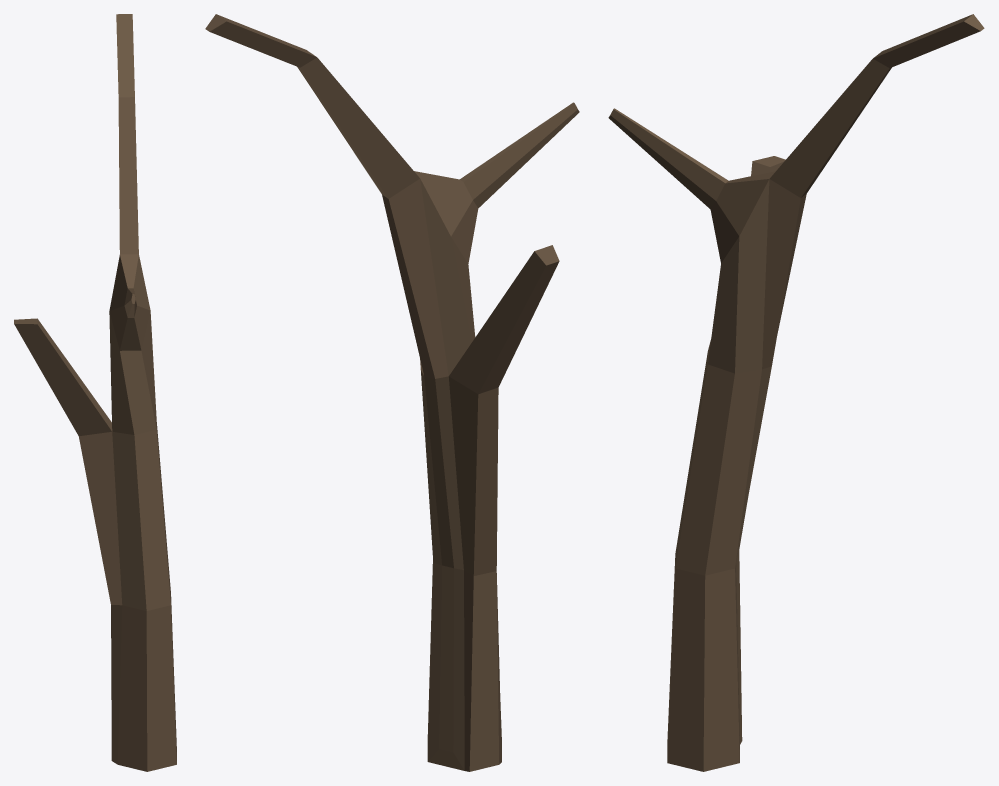
The model's file is Sappling_1.fbx.
The picture shows the model from 3 angles, left to right: view 1: azimuth 30°, elevation 25°; view 2: azimuth 150°, elevation 25°; view 3: azimuth 270°, elevation 25°; orthographic projection. The views are drawn at different scales.
Parts seen in each view (by area): view 1: Sapling; view 2: Sapling; view 3: Sapling.
Part boxes in pixels (x1=…): Sapling: x1=14, y1=14, x2=176, y2=771; Sapling: x1=205, y1=14, x2=579, y2=771; Sapling: x1=608, y1=14, x2=984, y2=771.
Bounding box in the file's own units: 13.06 × 40.62 × 17.59.
